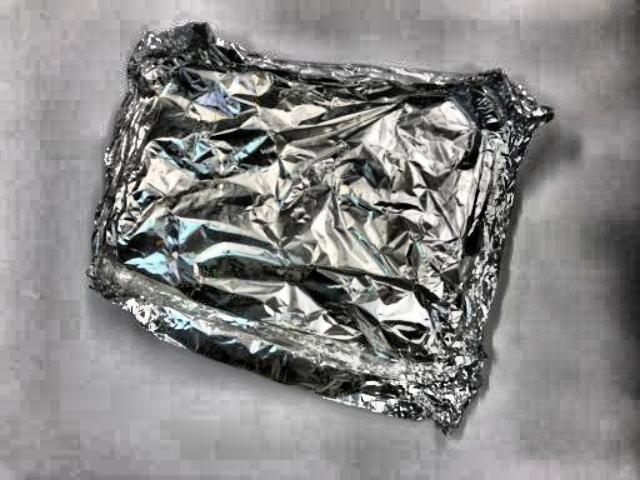Almennt: (96, 10, 535, 438)
